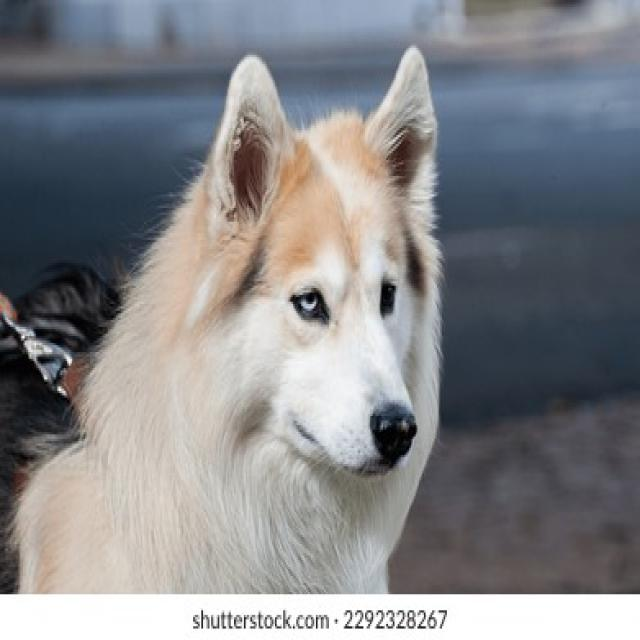ALASKAN_MALAMUTE: (14, 45, 460, 610)
